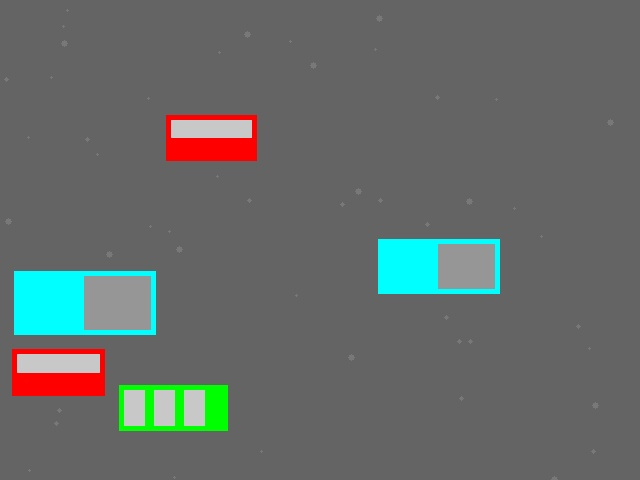bus: (119, 385, 227, 430)
car: (12, 349, 104, 395), (166, 115, 256, 160)
truck: (14, 271, 155, 334), (378, 239, 499, 293)
